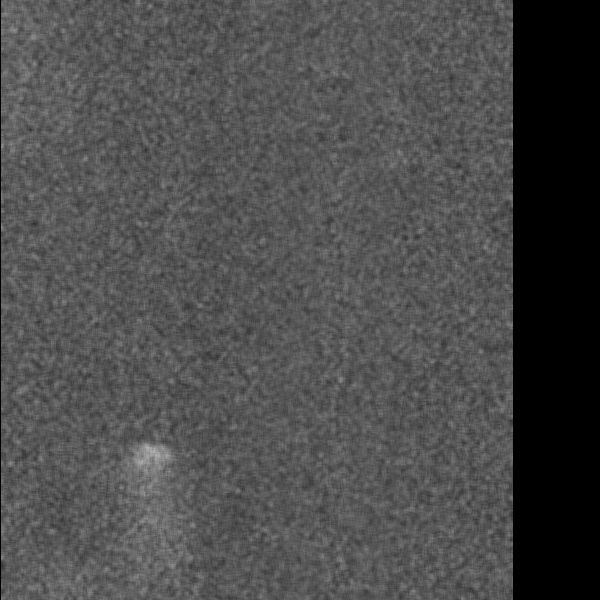spark: (125, 438, 178, 504)
